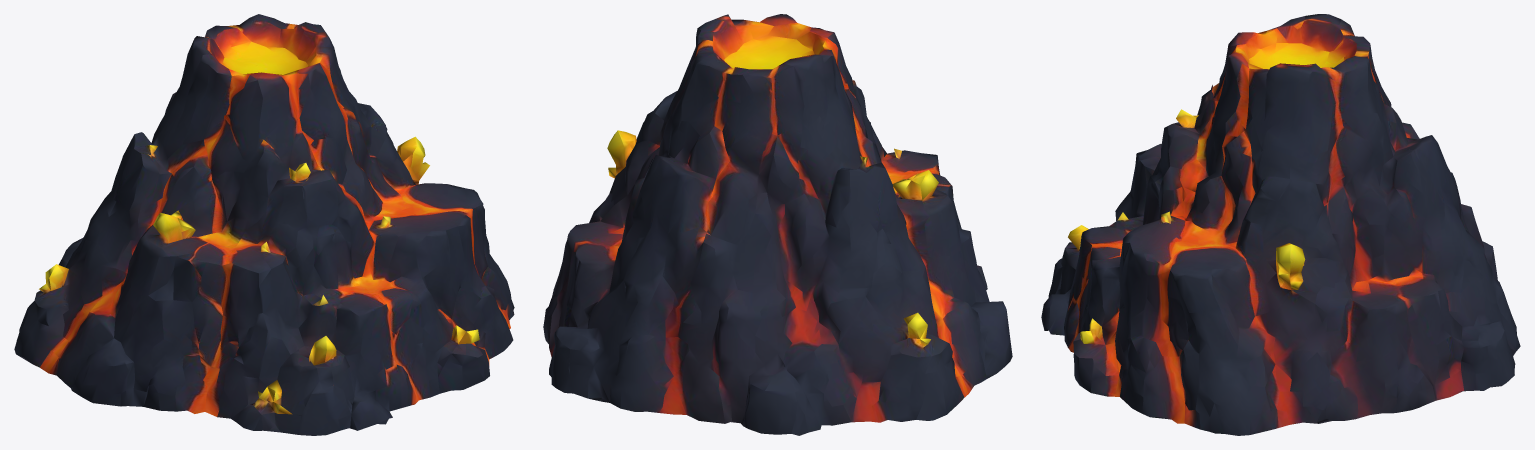
File: volcan_fondo.glb
3 views of the same model, side by side, from view 1: azimuth 30°, elevation 25°; view 2: azimuth 150°, elevation 25°; view 3: azimuth 270°, elevation 25° (orthographic). The views are drawn at different scales.
Visible parts, largest first — view 1: tripo_node_bf52cbe9-e7ce-43b2-a116-f0ca1983d6fc; view 2: tripo_node_bf52cbe9-e7ce-43b2-a116-f0ca1983d6fc; view 3: tripo_node_bf52cbe9-e7ce-43b2-a116-f0ca1983d6fc.
Boxes of the visible parts, bbox=[...] form: tripo_node_bf52cbe9-e7ce-43b2-a116-f0ca1983d6fc: bbox=[14, 14, 514, 435]; tripo_node_bf52cbe9-e7ce-43b2-a116-f0ca1983d6fc: bbox=[543, 14, 1012, 435]; tripo_node_bf52cbe9-e7ce-43b2-a116-f0ca1983d6fc: bbox=[1041, 14, 1520, 435].
Size of the model in its own units: 0.994 by 0.6524 by 0.9654.
Materials: 1 (1 with a texture image).
